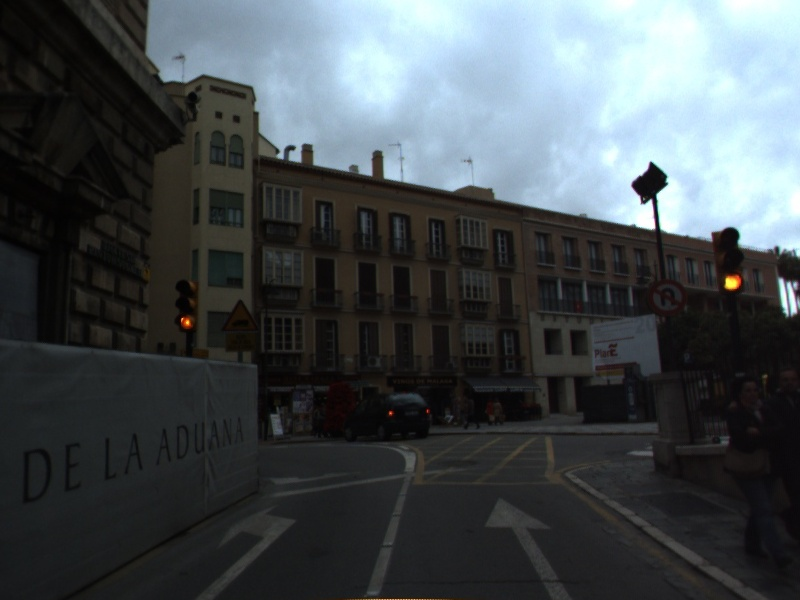LEFT: (191, 503, 298, 600)
STRAIGHT: (481, 494, 574, 600)
